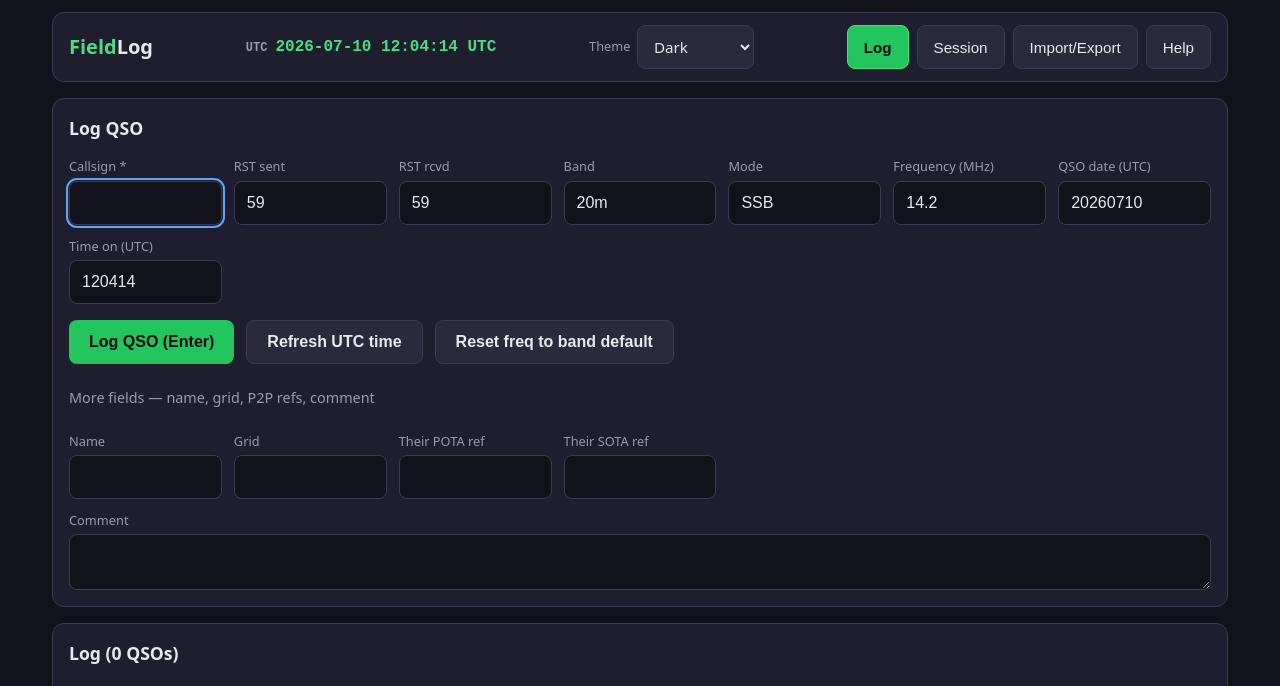
Test: persistence failures › retains the QSO draft and does not report success when saving fails
Type "W1AW" into the field labelled "Callsign *" at (145, 203), box [69,181,222,225]
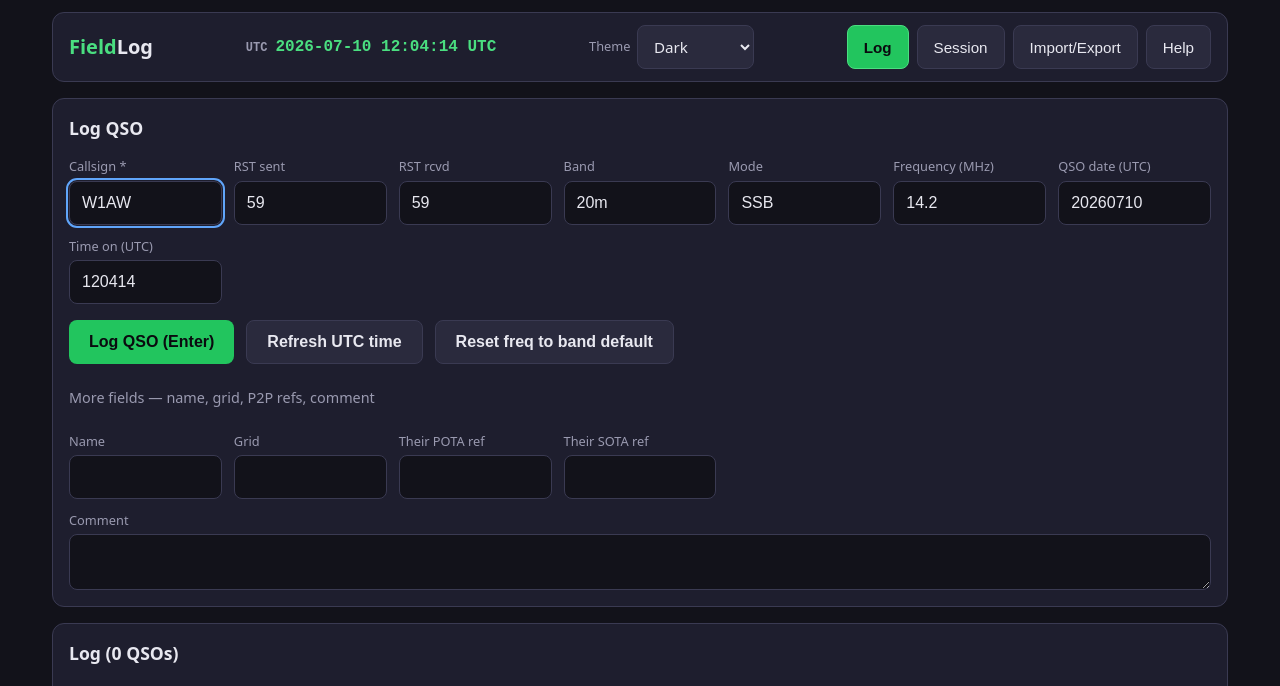
Click the button "Log QSO (Enter)" at (152, 342), box [69,320,234,364]
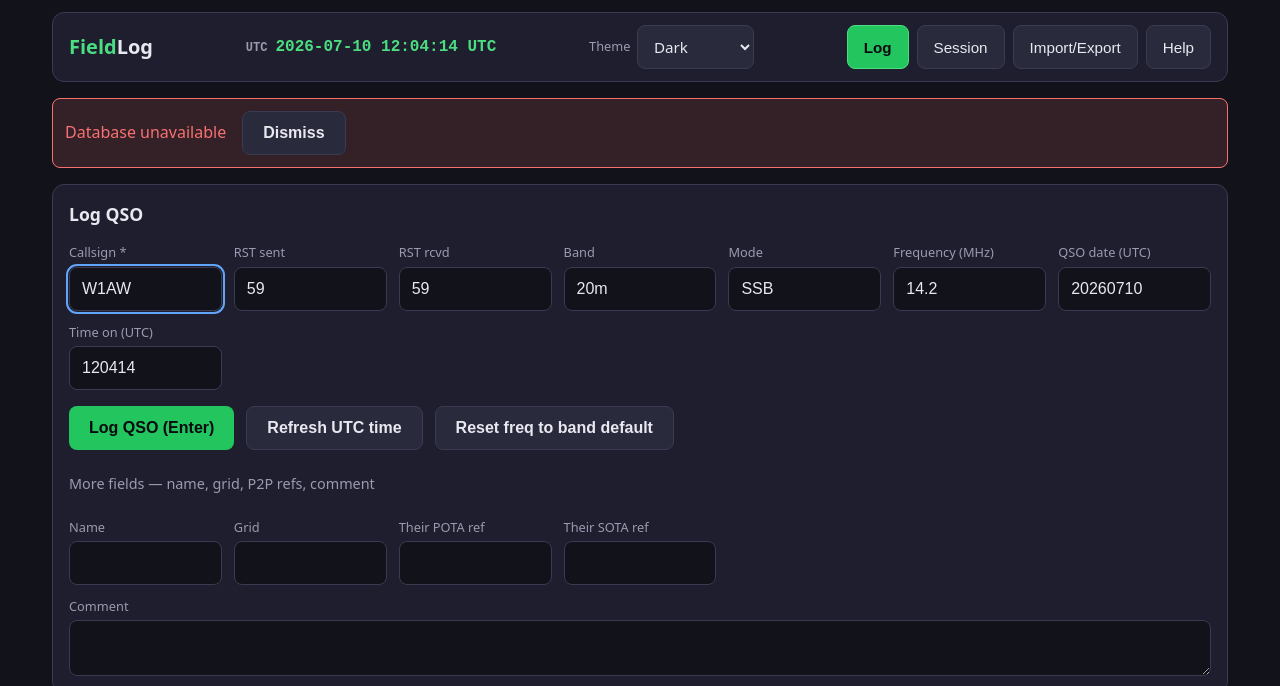
expect the button "Log QSO (Enter)" is enabled: met, box [69,406,234,450]
expect the message shows "Database unavailable": met, box [65,121,226,143]
